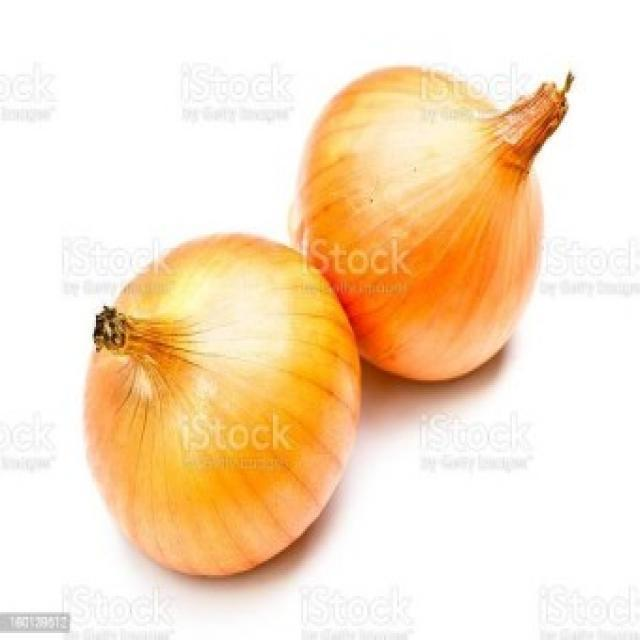onion: (83, 233, 363, 580), (285, 66, 568, 384)
